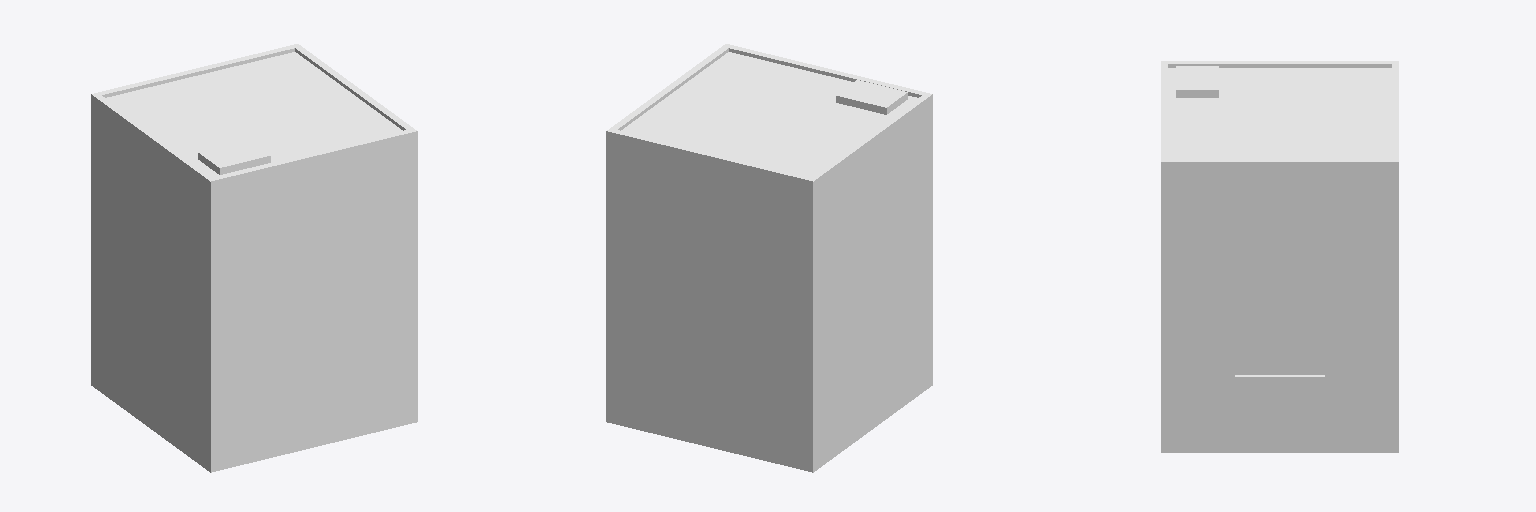
File: wiezowiec_ver2.obj
3 renders of one model, left to right at view 1: azimuth 30°, elevation 25°; view 2: azimuth 150°, elevation 25°; view 3: azimuth 270°, elevation 25°, orthographic.
Visible parts, largest first — view 1: object 1; view 2: object 1; view 3: object 1.
Boxes of the visible parts, <box> form: object 1: <box>91,44,417,472</box>; object 1: <box>606,44,932,472</box>; object 1: <box>1161,61,1398,452</box>.
Size of the model in its own units: 6.2 by 8.3 by 6.1.